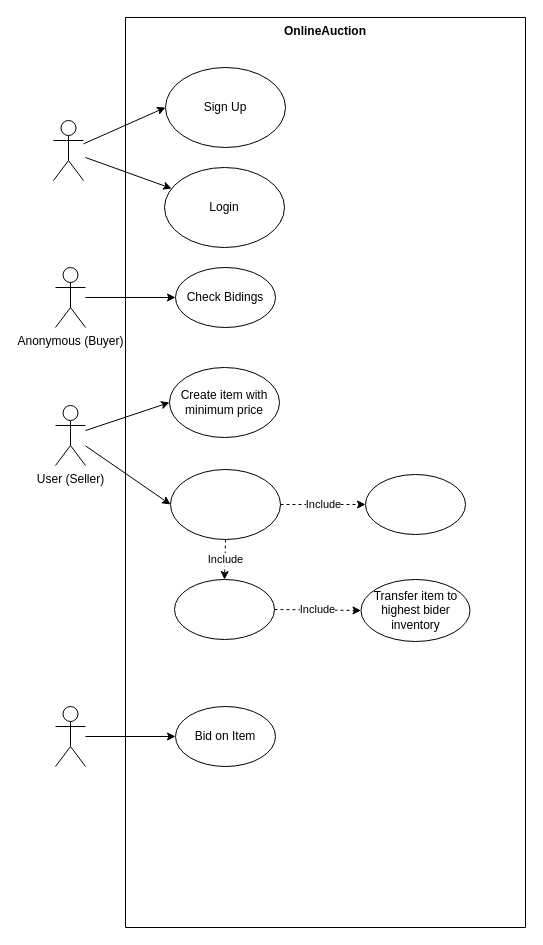
Image size: 543x945. Some labels were removed from this diagram. The centre of each missing label's shape, as x and y in pixels:
Anonymous: point (68, 150)
Create Biding: point (225, 504)
End Biding on timer: point (224, 609)
Select item from inventory: point (415, 504)
User (Buyer): point (70, 736)
